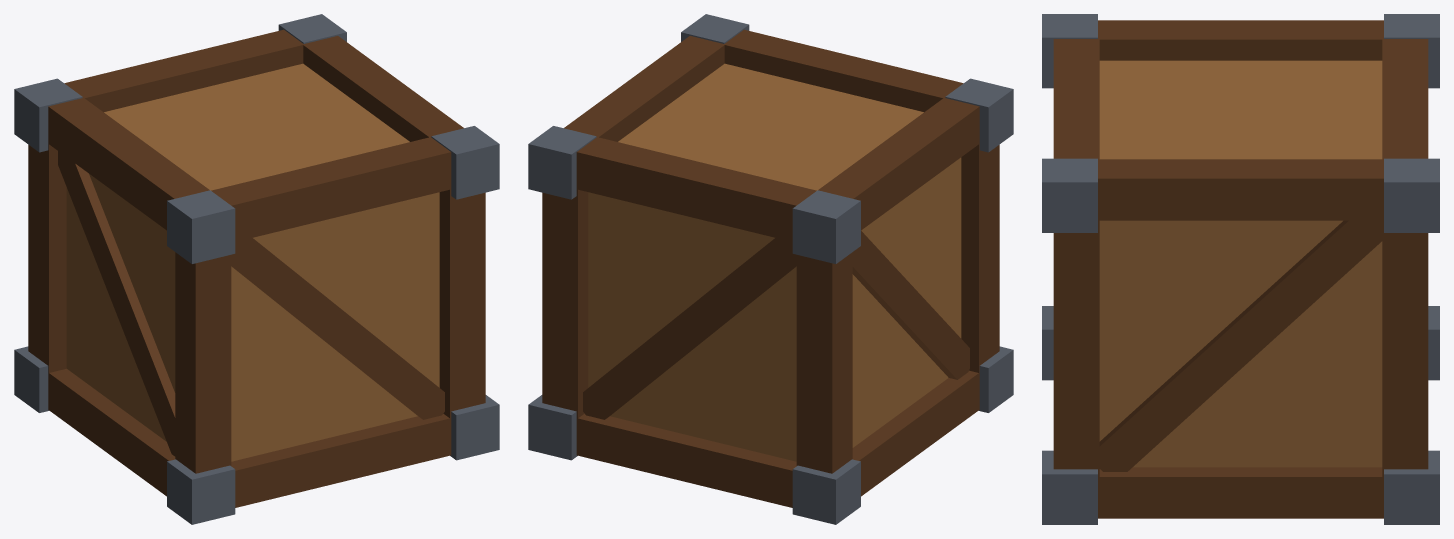
Rendered from crate.fbx.
3 views of the same model, side by side, from view 1: azimuth 30°, elevation 25°; view 2: azimuth 150°, elevation 25°; view 3: azimuth 270°, elevation 25° (orthographic). The views are drawn at different scales.
Parts seen in each view (by area): view 1: crate_Main; view 2: crate_Main; view 3: crate_Main.
Boxes of the visible parts, bbox=[...] form: crate_Main: bbox=[14, 14, 499, 524]; crate_Main: bbox=[528, 14, 1013, 524]; crate_Main: bbox=[1042, 14, 1439, 524].
Size of the model in its own units: 1.21 by 1.15 by 1.21.
